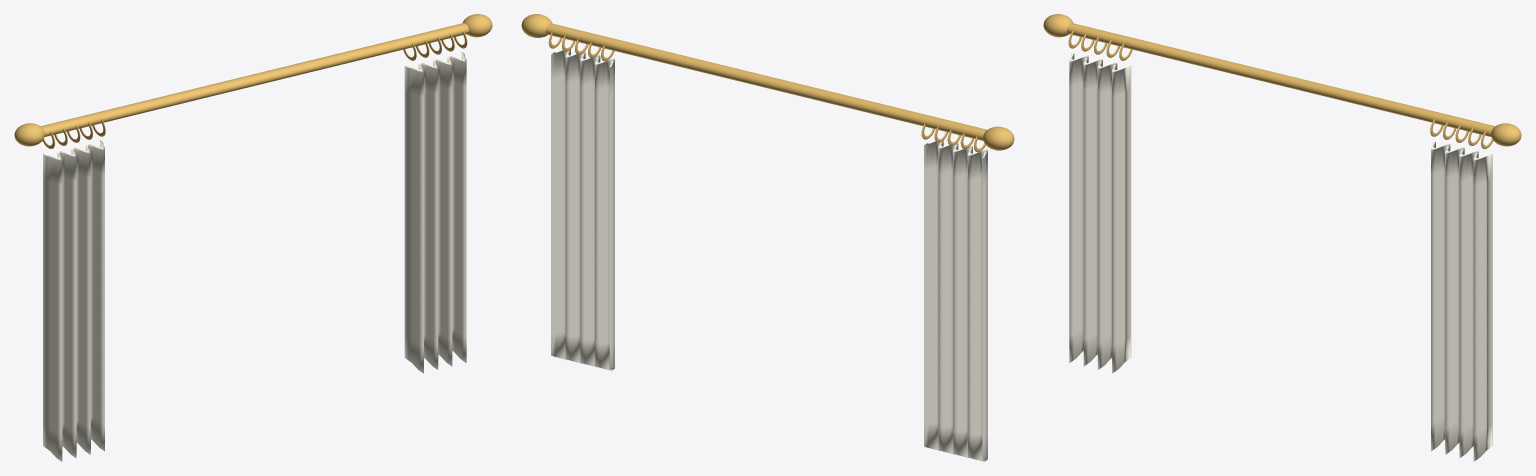
Rendered from curtainCreamLinen.glb.
3 renders of one model, left to right at view 1: azimuth 30°, elevation 25°; view 2: azimuth 150°, elevation 25°; view 3: azimuth 330°, elevation 25°, orthographic. The views are drawn at different scales.
Parts seen in each view (by area): view 1: Folded curtain fabric.001, Folded curtain fabric, Curtain rod, Rod finial, Rod finial.001; view 2: Folded curtain fabric.001, Folded curtain fabric, Curtain rod, Rod finial, Rod finial.001; view 3: Folded curtain fabric, Folded curtain fabric.001, Curtain rod, Rod finial.001, Rod finial.
Part boxes in pixels (<box>): Folded curtain fabric.001: <box>404,52,466,373</box>; Folded curtain fabric: <box>43,140,104,461</box>; Curtain rod: <box>41,23,468,136</box>; Rod finial: <box>14,123,44,146</box>; Rod finial.001: <box>462,14,492,37</box>; Folded curtain fabric.001: <box>551,49,614,370</box>; Folded curtain fabric: <box>924,140,987,461</box>; Curtain rod: <box>545,23,987,140</box>; Rod finial: <box>983,126,1014,150</box>; Rod finial.001: <box>521,14,552,37</box>; Folded curtain fabric: <box>1069,52,1131,373</box>; Folded curtain fabric.001: <box>1431,140,1492,461</box>; Curtain rod: <box>1067,23,1494,136</box>; Rod finial.001: <box>1491,123,1521,146</box>; Rod finial: <box>1043,14,1073,37</box>.
Size of the model in its own units: 2.1 by 1.41 by 0.138.
